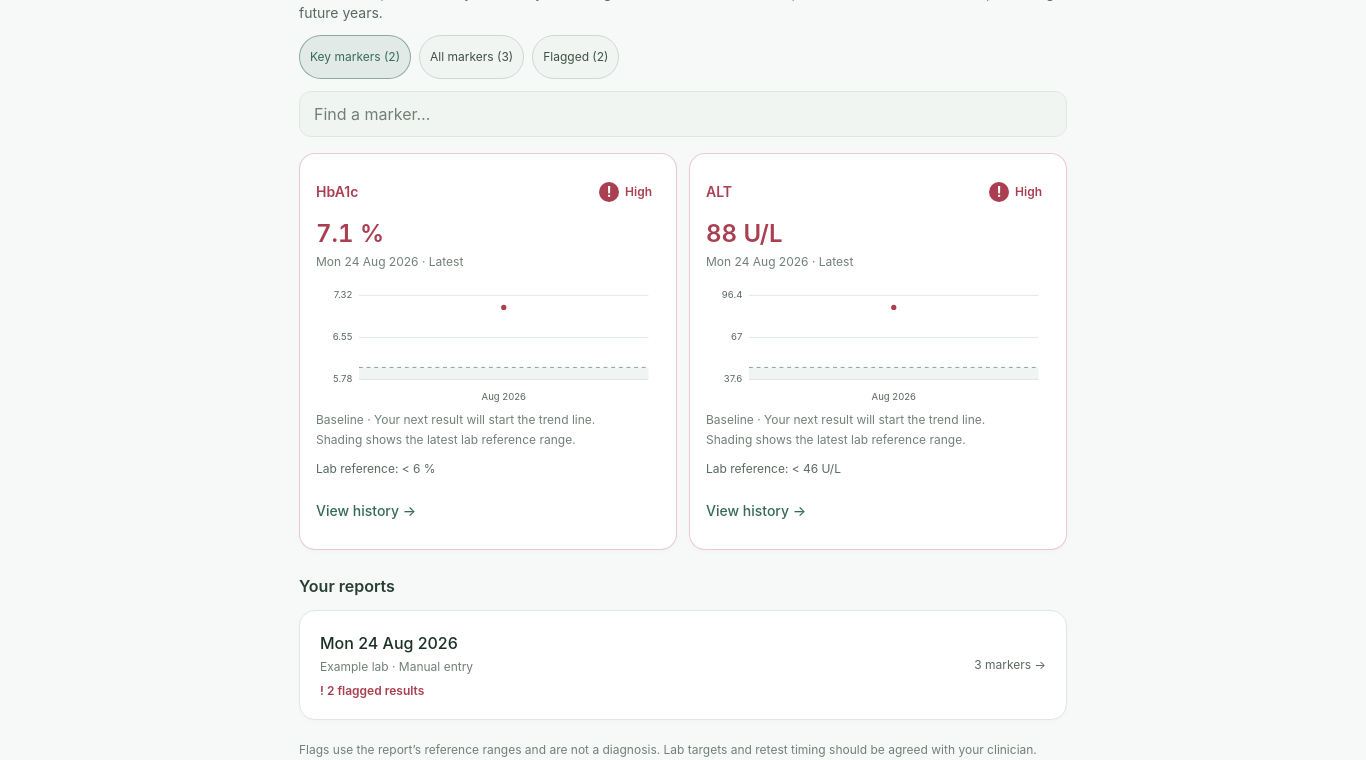
Test case: report alerts explain qualitative abnormal results and closing returns to the report
This screenshot has width=1366, height=760.
(page scrolled)
Click the button "Mon 24 Aug 2026 Example lab" at {"x": 389, "y": 643}, box x1=299 y1=610 x2=1067 y2=720
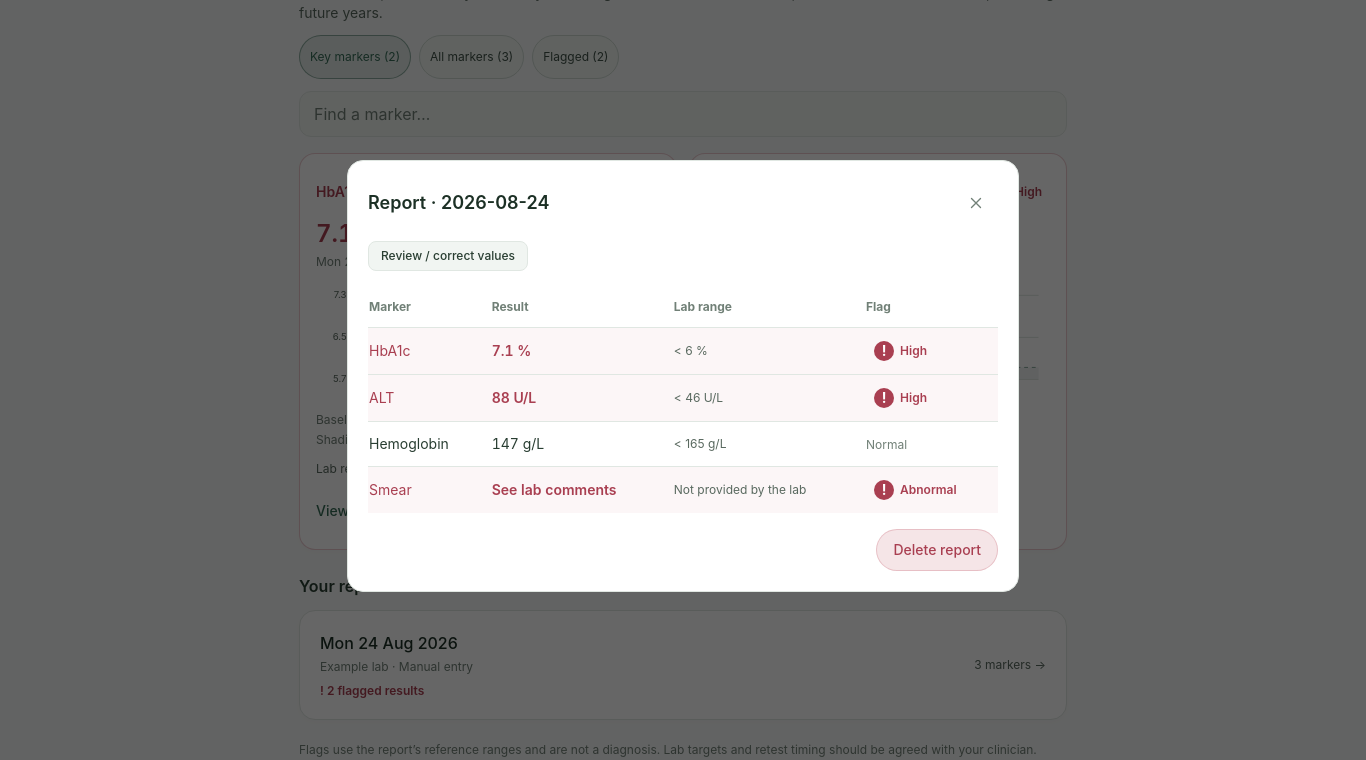
Click the button with aria-label "Explain Smear abnormal result" at {"x": 915, "y": 490}, box x1=866 y1=468 x2=965 y2=512
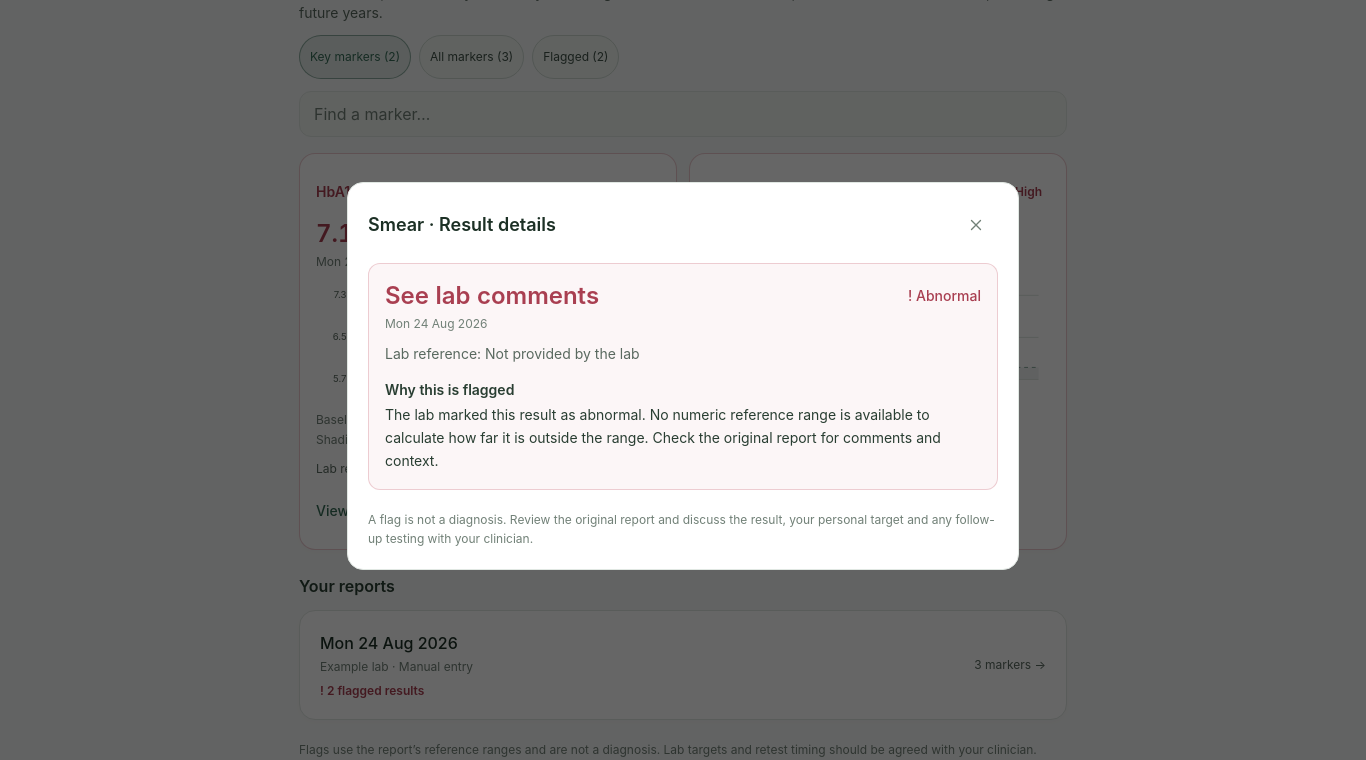
Expected: the number of dialogs is 1, x1=347 y1=182 x2=1019 y2=570
Expected: the text "No numeric reference range is available" is shown, x1=385 y1=406 x2=941 y2=469
Click the button named "Close" at {"x": 976, "y": 225}, box x1=954 y1=203 x2=998 y2=247
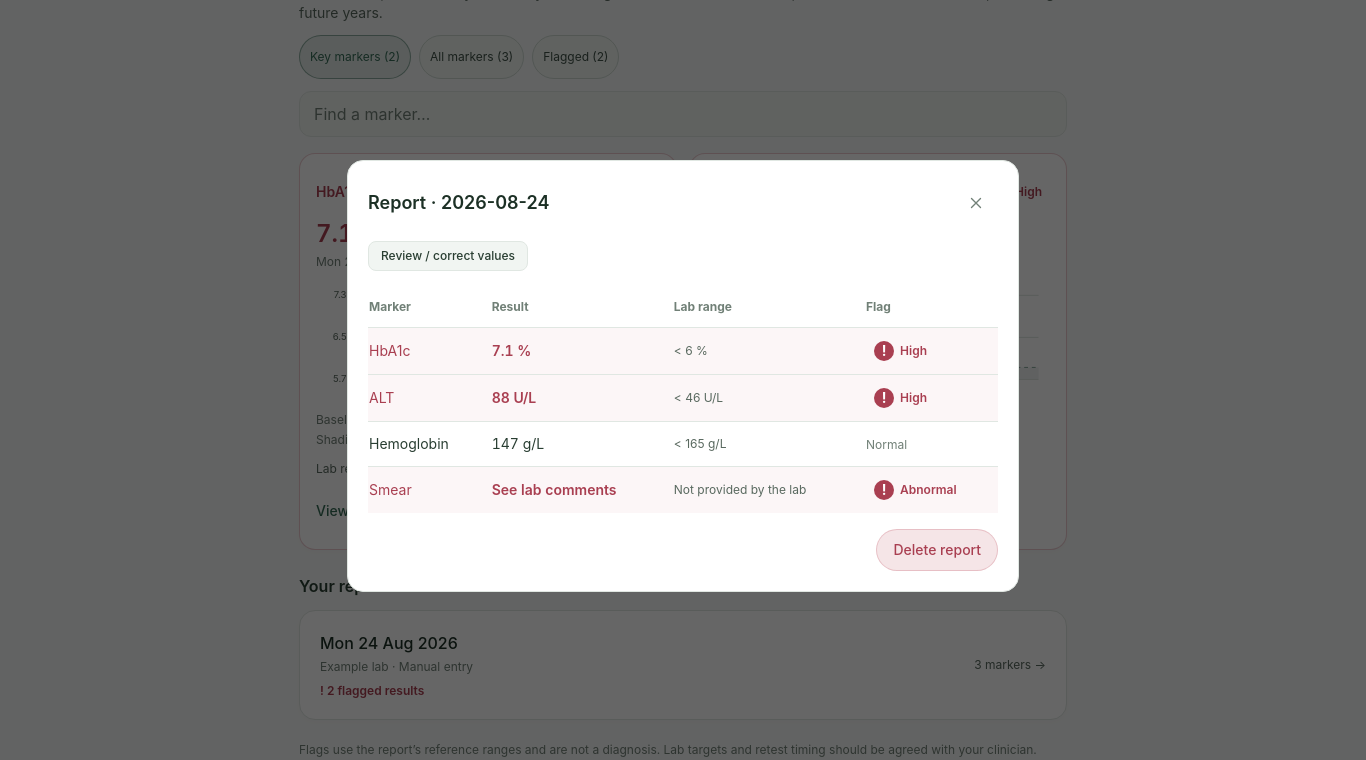
Expected: the dialog "Report · 2026-08-24" is shown, x1=347 y1=160 x2=1019 y2=592
